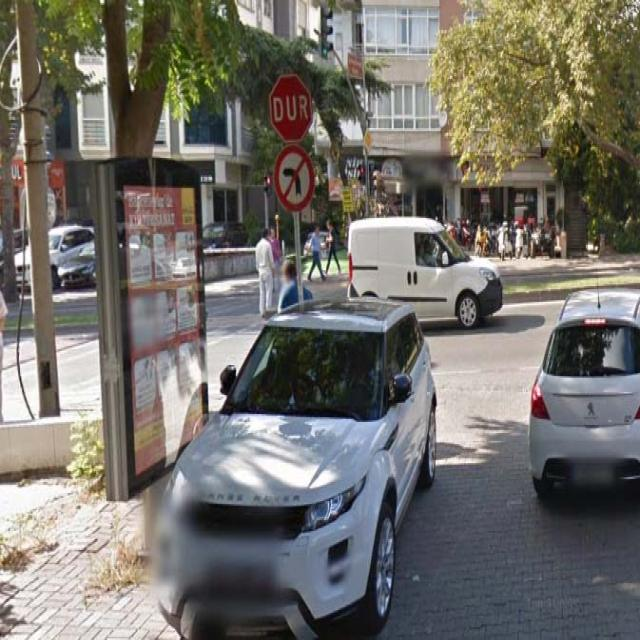dur: (269, 74, 313, 142)
soladonulmez: (273, 144, 315, 213)
